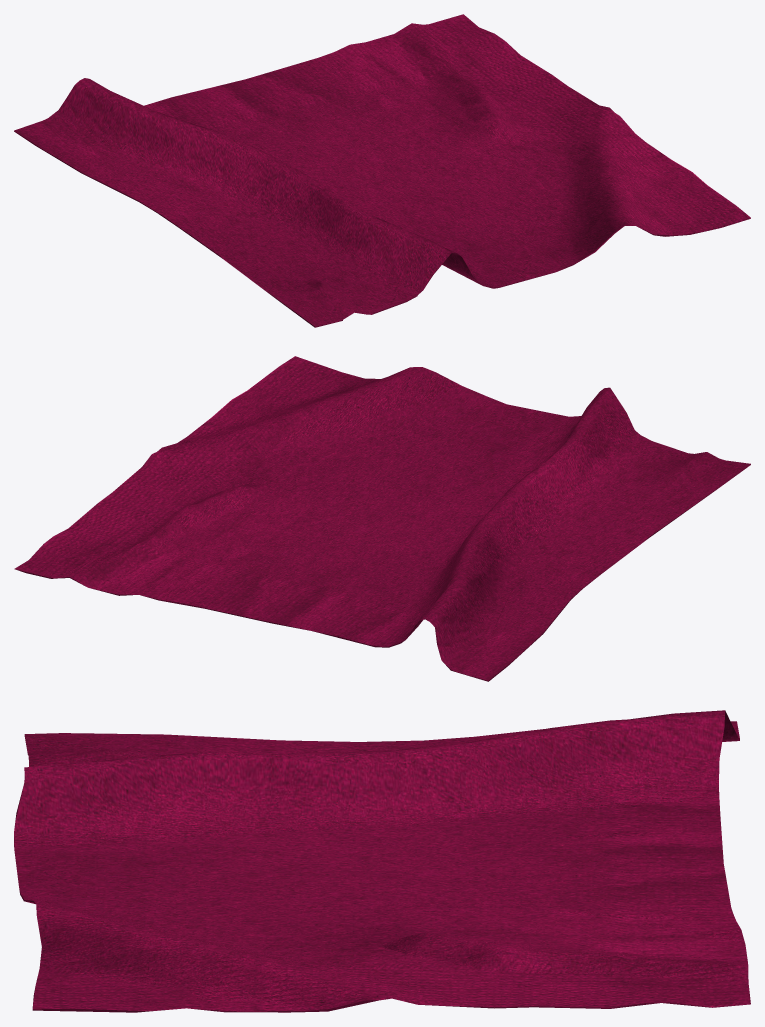
Rendered from Napkin.FBX.
3 renders of one model, top to bottom at view 1: azimuth 30°, elevation 25°; view 2: azimuth 150°, elevation 25°; view 3: azimuth 270°, elevation 25°, orthographic. The views are drawn at different scales.
Visible parts, largest first — view 1: Napkin; view 2: Napkin; view 3: Napkin.
Part boxes in pixels (x1=…): Napkin: x1=14, y1=14, x2=750, y2=327; Napkin: x1=14, y1=356, x2=750, y2=681; Napkin: x1=14, y1=710, x2=750, y2=1012.
Size of the model in its own units: 16.1 by 1.55 by 17.29.
1 material, 1 textured.
